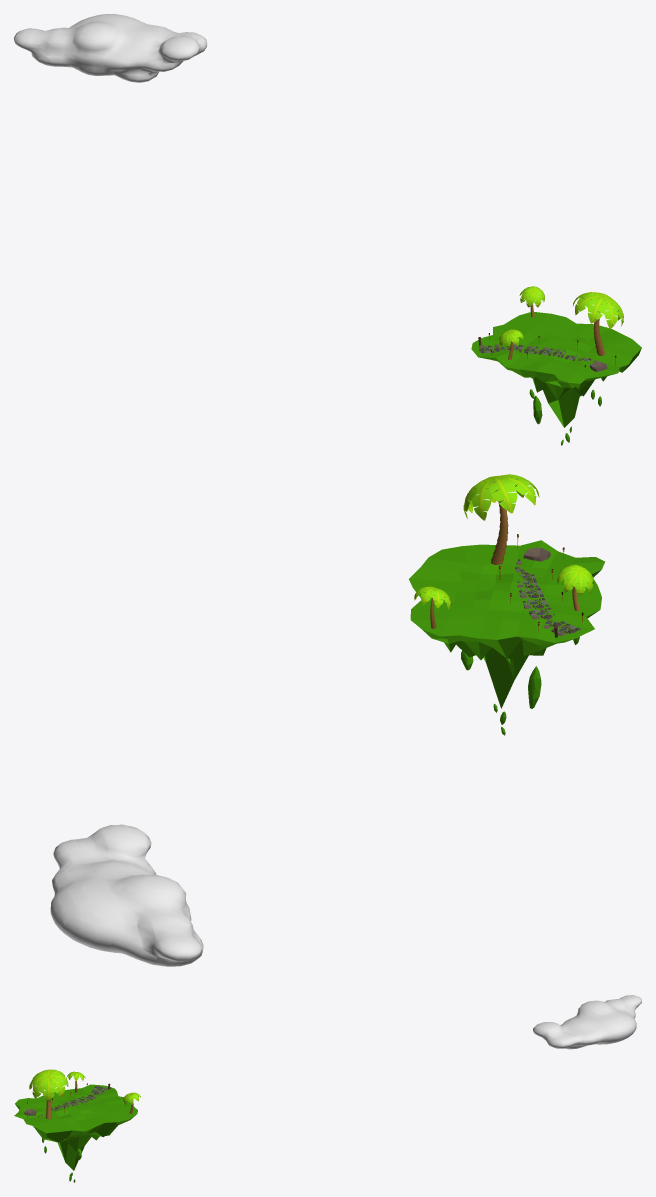
File: EscenarioCortoIsla2.fbx
3 renders of one model, top to bottom at view 1: azimuth 30°, elevation 25°; view 2: azimuth 150°, elevation 25°; view 3: azimuth 270°, elevation 25°, orthographic. The views are drawn at different scales.
Visible parts, largest first — view 1: Isla_Meditación, Mball.001, Tronco_Palmera; view 2: Isla_Meditación, Mball.001, Tronco_Palmera, Tronco_Palmera.002; view 3: Isla_Meditación, Mball.001, Tronco_Palmera.
Boxes of the visible parts, x1,y1,x2,y2 form: Isla_Meditación: (471, 312, 641, 427); Mball.001: (14, 14, 207, 82); Tronco_Palmera: (572, 292, 623, 355); Isla_Meditación: (409, 540, 604, 708); Mball.001: (50, 824, 203, 966); Tronco_Palmera: (463, 474, 539, 564); Tronco_Palmera.002: (557, 564, 593, 610); Isla_Meditación: (14, 1084, 137, 1170); Mball.001: (533, 995, 641, 1049); Tronco_Palmera: (29, 1069, 68, 1119).
Bounding box in the file's own units: 6771 × 5274 × 21625.
